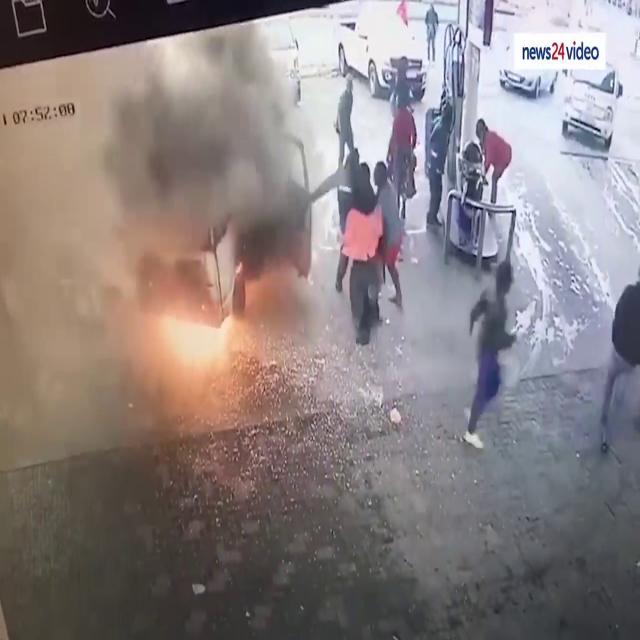Fire: (154, 290, 246, 386)
Smoke: (83, 27, 319, 265), (467, 211, 517, 421)
